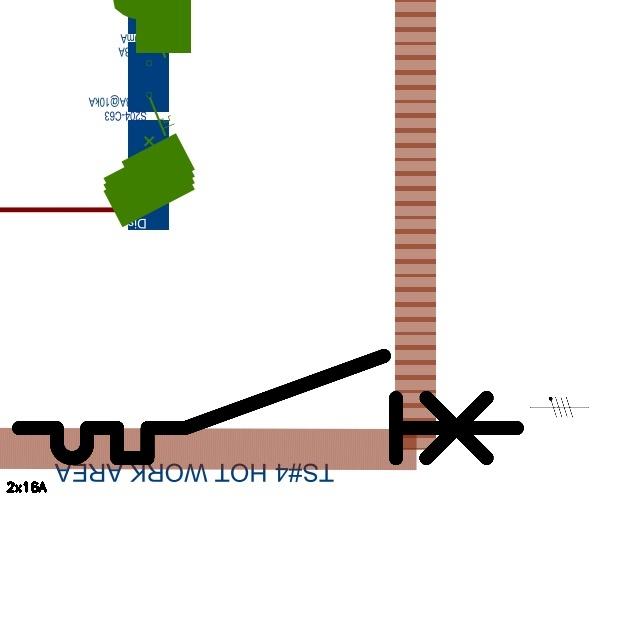interruptor_termomagnetico: (6, 343, 530, 471)
